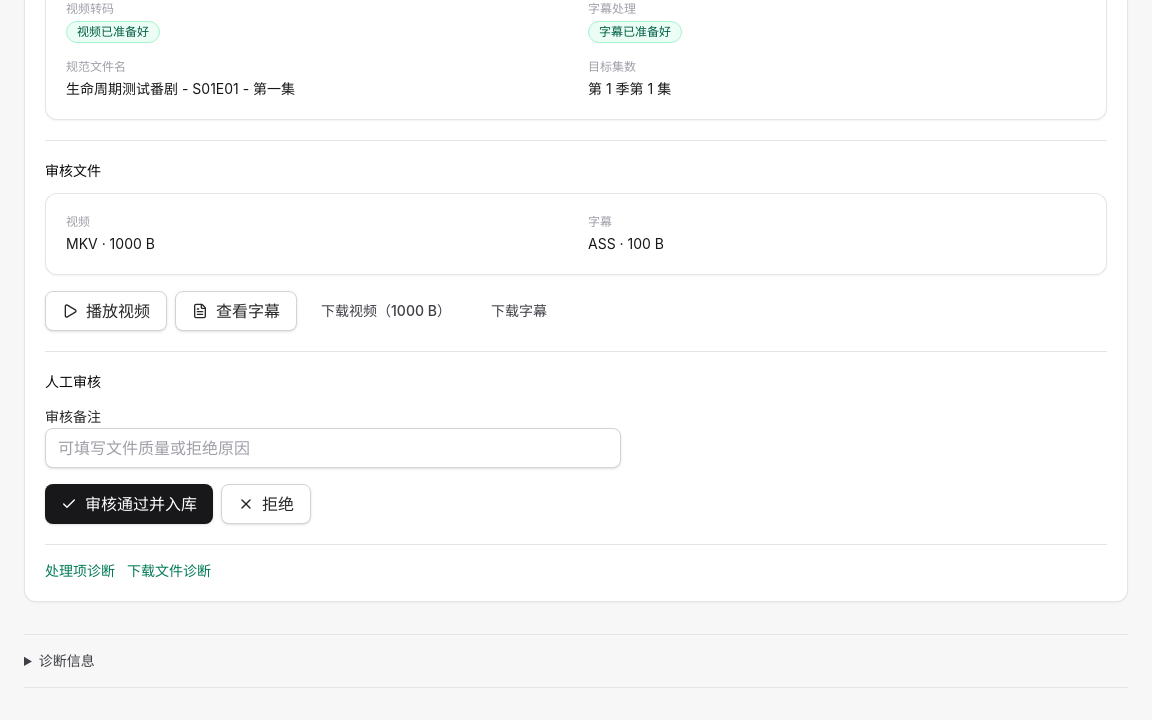
Test: AcquisitionDetailPage lifecycle › reviews from the unified task and automatically queues import without a second command
(page scrolled)
Click the button "审核通过并入库": (129, 504) x1=45 y1=484 x2=213 y2=524
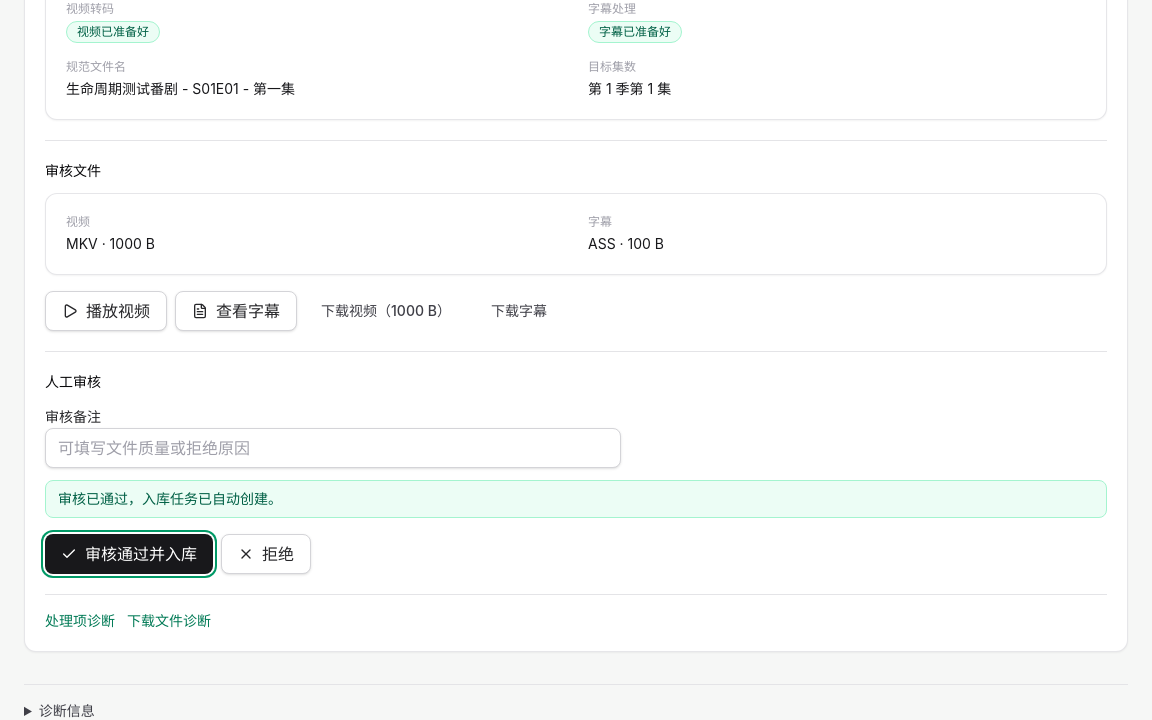
Now the text "审核已通过，入库任务已自动创建。" is shown, box x1=45 y1=480 x2=1107 y2=518
